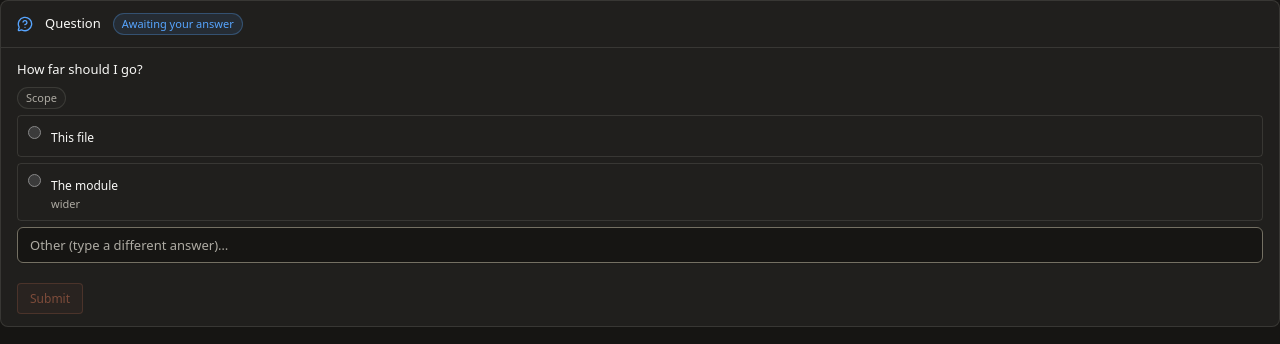
Test: QuestionCard — confirms honestly what happened to the answer › a 404/409 settles silently as answered elsewhere, never as an error
Step 1. Click the text "This file" → (73, 138), box [51, 129, 94, 146]
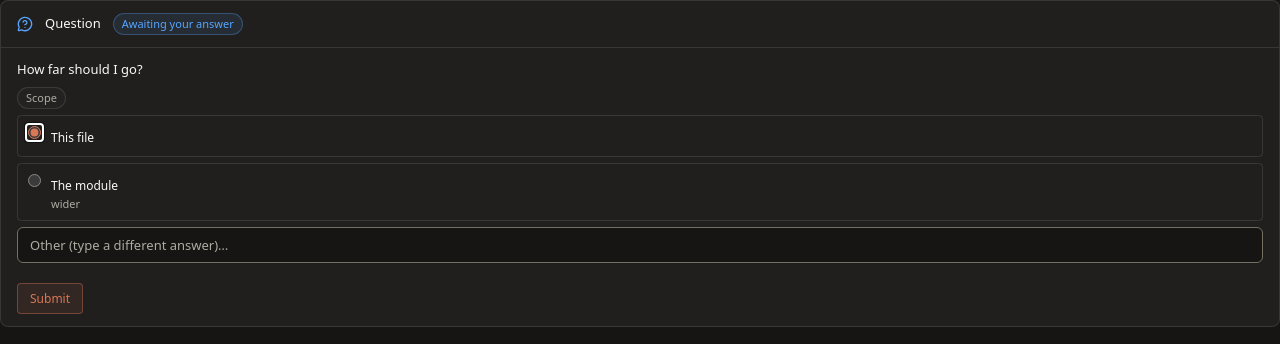
Step 2. Click the button "Submit" → (50, 298), box [17, 282, 83, 314]
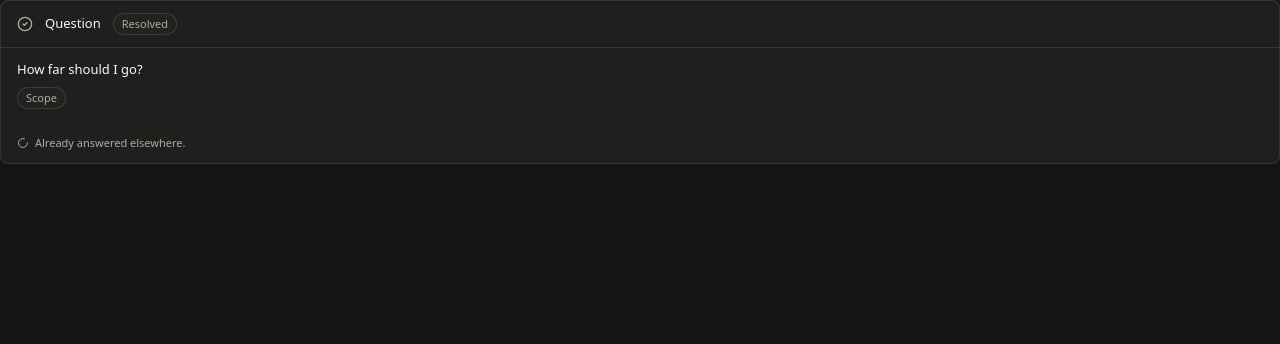
Result: the text "Already answered elsewhere." is shown at [17, 135, 186, 150]
